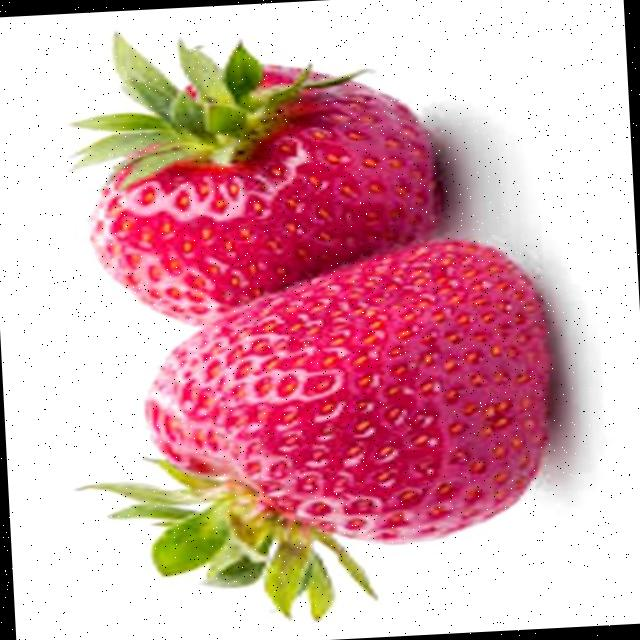strawberry: (88, 241, 549, 617), (76, 35, 442, 324)
